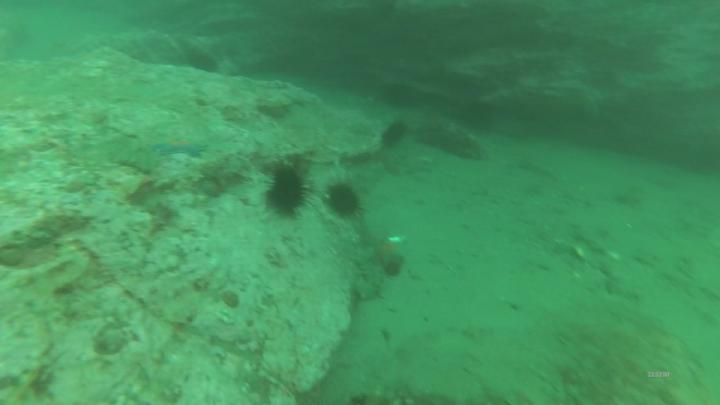echinus: (273, 173, 304, 210), (331, 185, 360, 216), (385, 122, 406, 146)
holothurian: (356, 259, 384, 300)
starfish: (158, 139, 208, 159)
